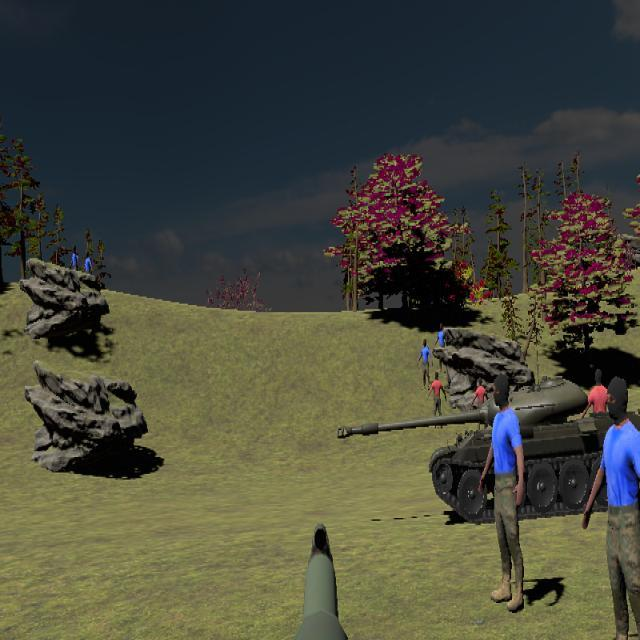Human: (582, 375, 640, 640), (479, 376, 526, 610), (427, 371, 448, 431), (427, 371, 448, 430), (417, 338, 433, 391)
Tank: (339, 380, 640, 526)
